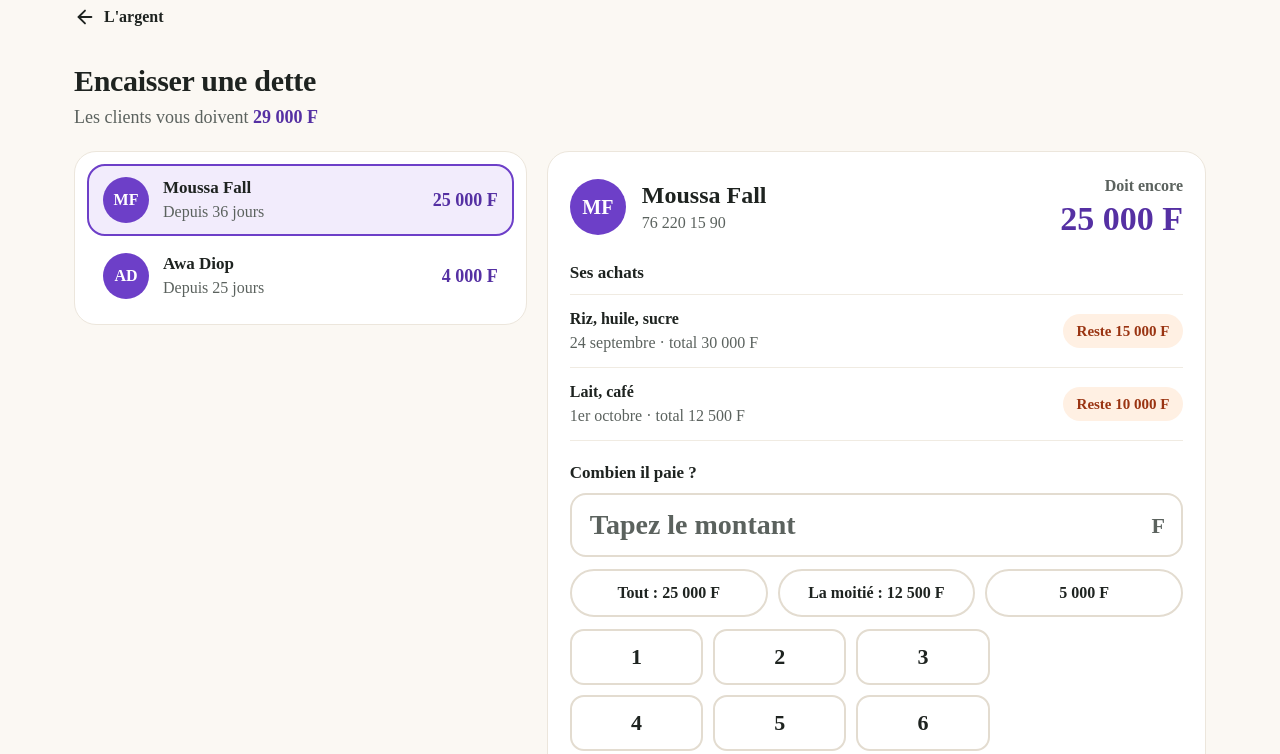
Test: Encaisser une dette (écran 18) › refuse plus que ce qui est dû
The image size is (1280, 754).
Expected: the heading "Moussa Fall" is shown, x1=642 y1=182 x2=766 y2=208
Type "30000" into the field labelled "Combien il paie ?" at (876, 524), box x1=570 y1=492 x2=1183 y2=556
(page scrolled)
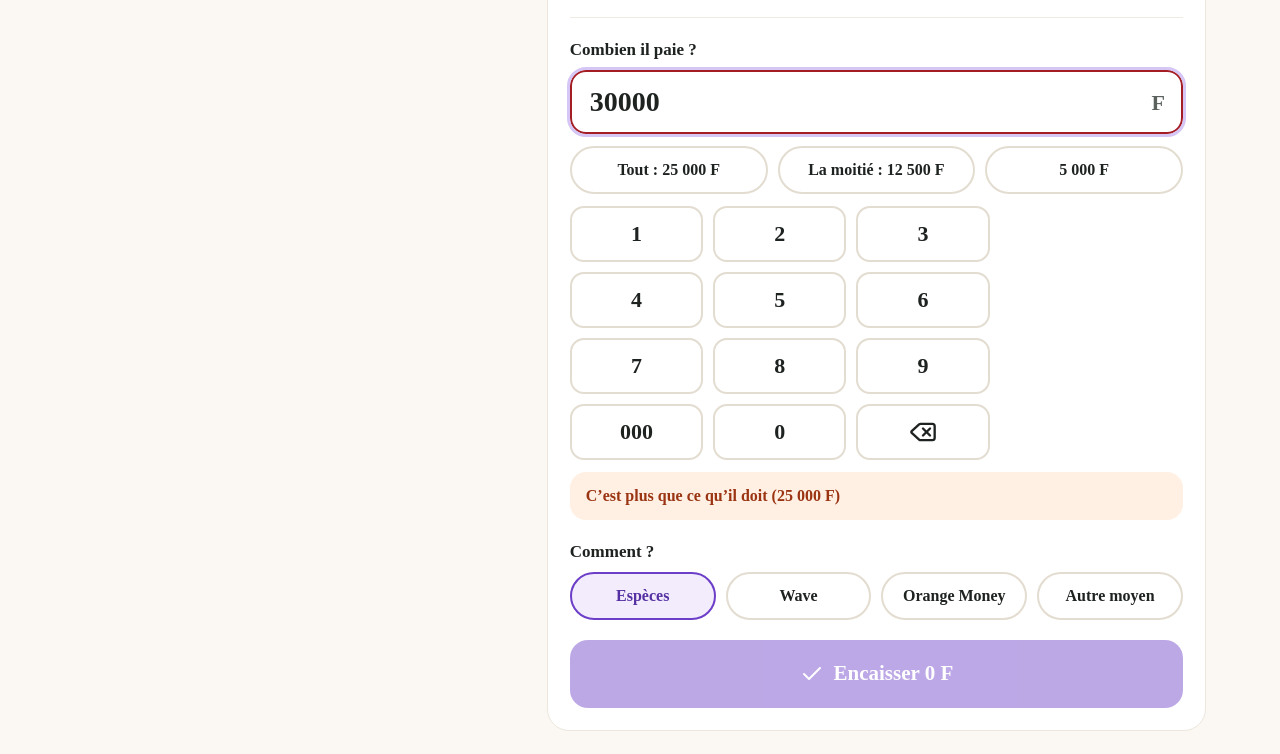
Expected: the button "Encaisser 0 F" is disabled, x1=570 y1=640 x2=1183 y2=708
Expected: the text "C’est plus que ce qu’il doit (25 000 F)" is shown, x1=570 y1=472 x2=1183 y2=520
